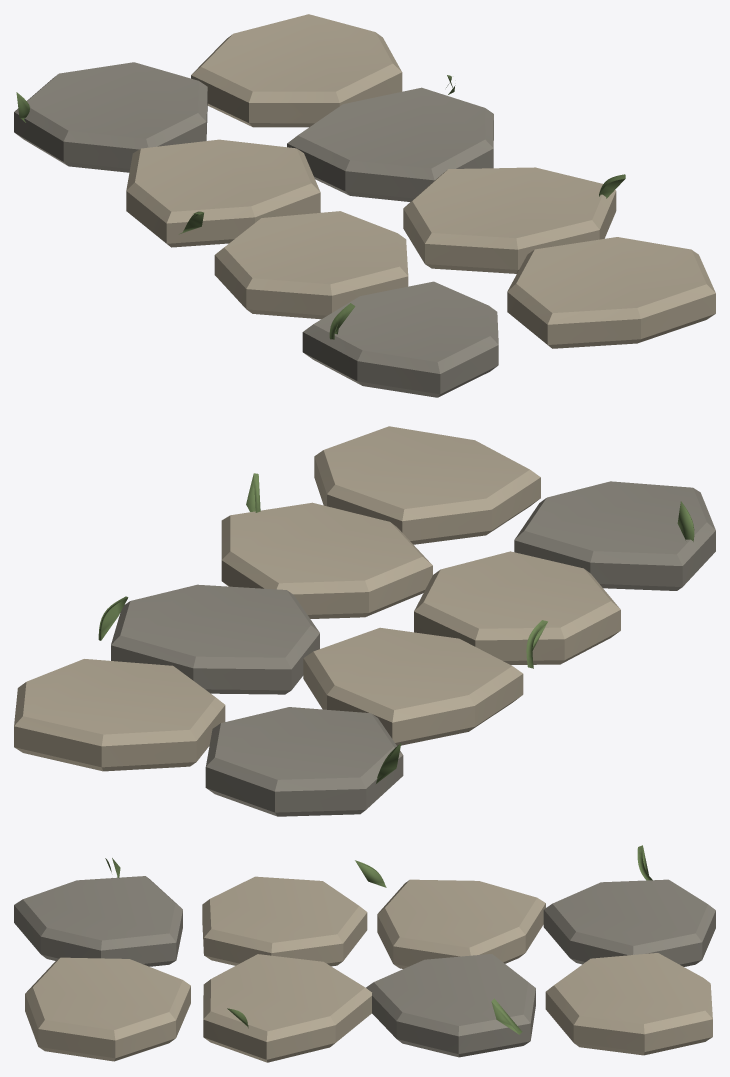
File: sendero_piedra_lod.glb
3 views of the same model, one above another, from view 1: azimuth 30°, elevation 25°; view 2: azimuth 150°, elevation 25°; view 3: azimuth 270°, elevation 25° (orthographic). The views are drawn at different scales.
Visible parts, largest first — view 1: sendero_piedra; view 2: sendero_piedra; view 3: sendero_piedra.
Part boxes in pixels (x1,y1,x2,y2): sendero_piedra: (14, 14, 715, 397); sendero_piedra: (14, 426, 715, 816); sendero_piedra: (14, 845, 715, 1062).
Size of the model in its own units: 1.15 by 0.1939 by 2.07.
